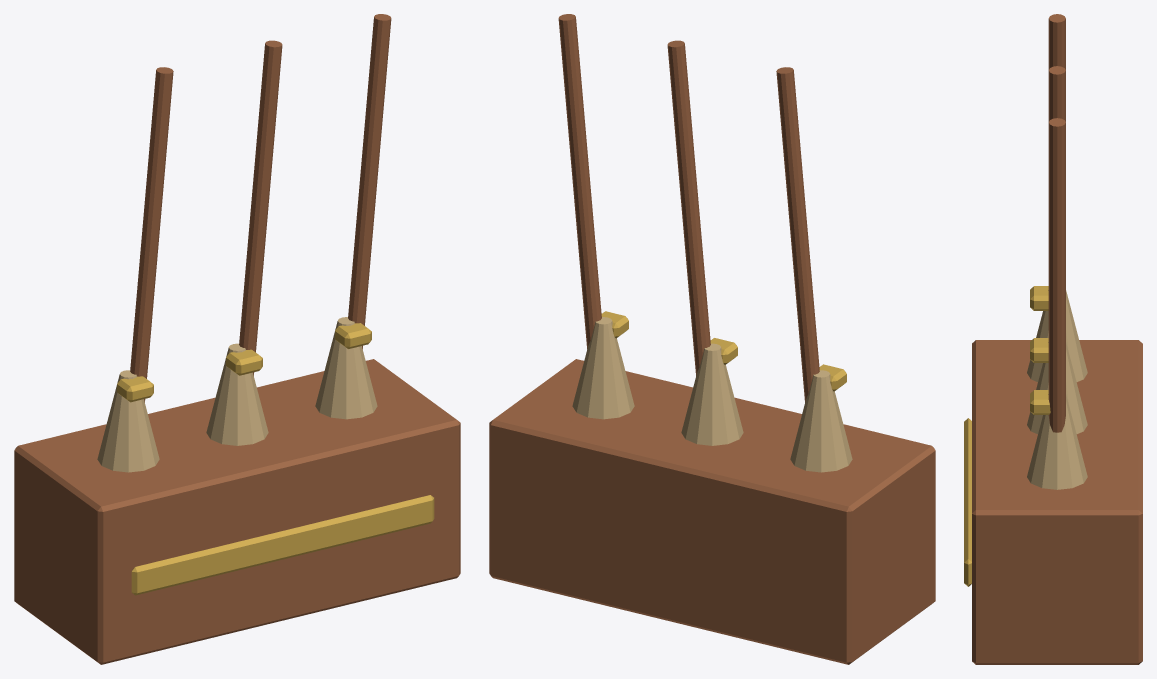
The model's file is brooms.glb.
The picture shows the model from 3 angles, left to right: view 1: azimuth 30°, elevation 25°; view 2: azimuth 150°, elevation 25°; view 3: azimuth 270°, elevation 25°; orthographic projection. The views are drawn at different scales.
Visible parts, largest first — view 1: Base, Target1, Target0, Target2; view 2: Base, Target1, Target0, Target2; view 3: Base, Target2, Target1, Target0.
Part boxes in pixels (x1,y1,x2,y2): Base: (14, 359, 460, 664); Target1: (206, 40, 282, 445); Target0: (97, 67, 173, 472); Target2: (315, 14, 391, 419); Base: (489, 359, 935, 664); Target1: (667, 40, 743, 445); Target0: (776, 67, 852, 472); Target2: (558, 14, 634, 419); Base: (964, 340, 1142, 664); Target2: (1027, 118, 1087, 489); Target1: (1027, 66, 1087, 434); Target0: (1027, 14, 1087, 382).
Bounding box in the file's own units: 1.2 × 1.7 × 0.5225.
